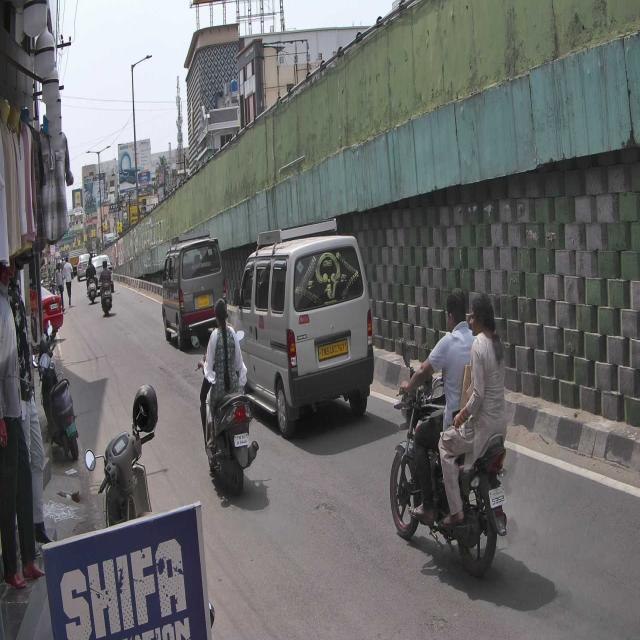double_rider: (389, 286, 510, 570)
